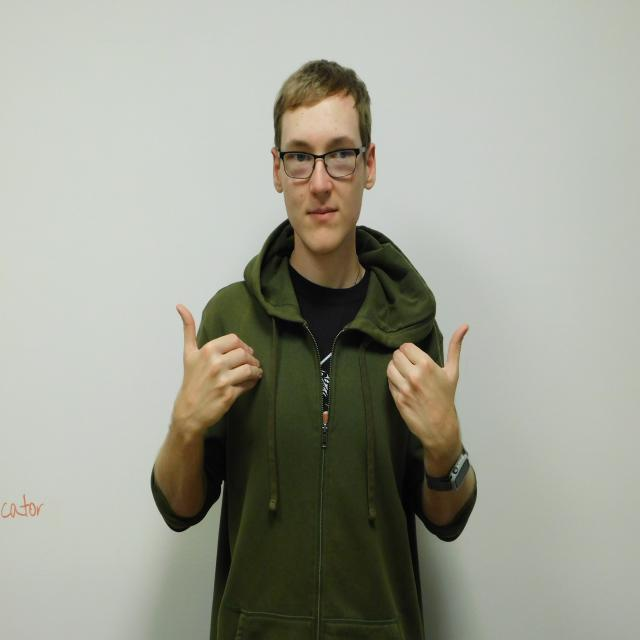have: (176, 303, 470, 448)
